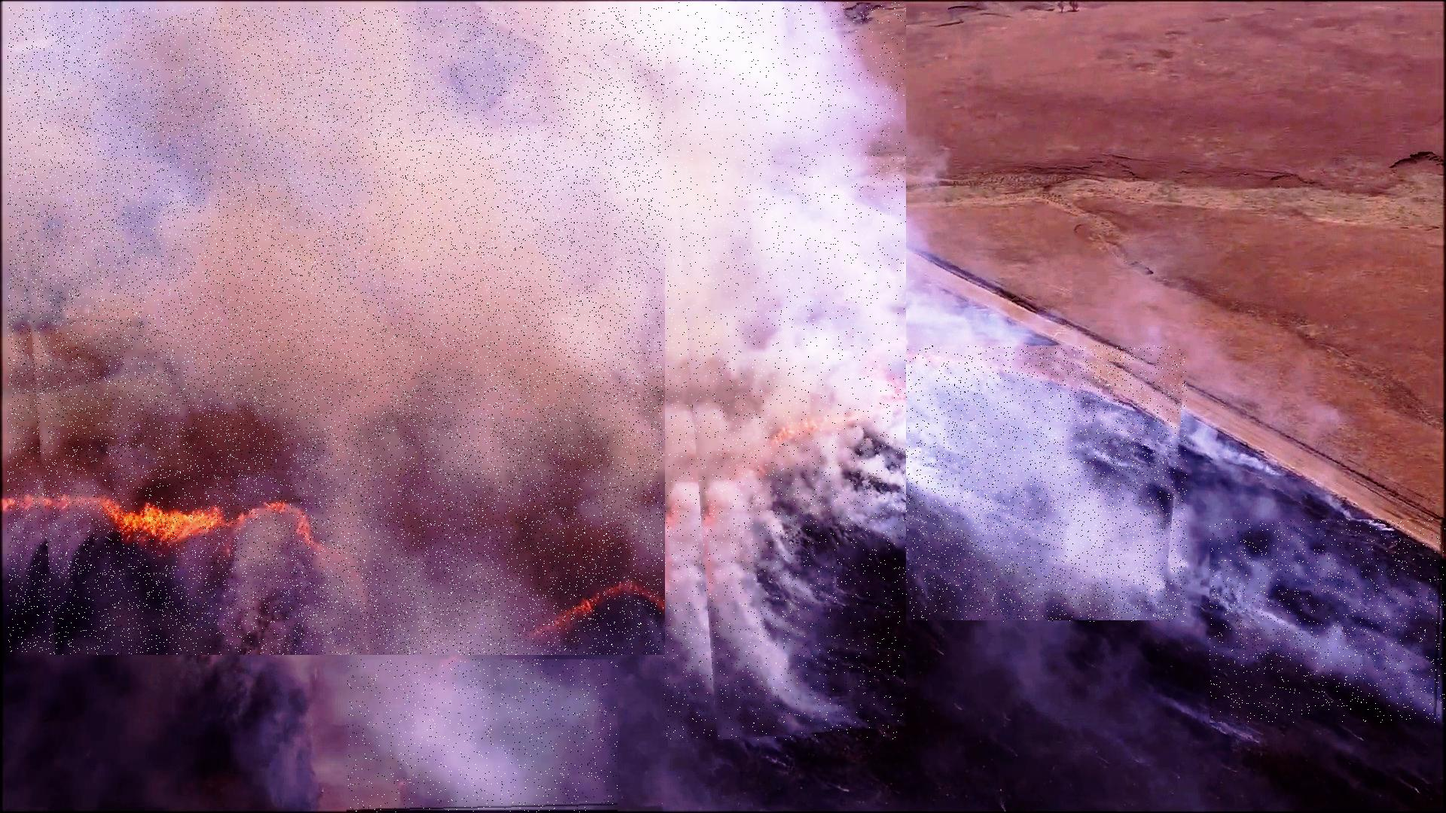fire: (68, 497, 183, 550)
smoke: (8, 8, 665, 655), (663, 3, 906, 740), (879, 346, 1187, 622), (1210, 519, 1446, 723), (346, 660, 618, 813)
